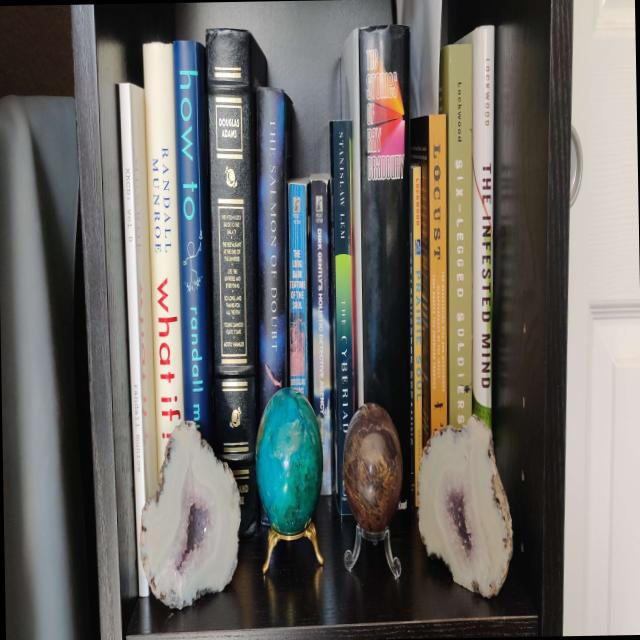book: (205, 28, 275, 534), (340, 23, 411, 511), (118, 82, 162, 598), (142, 41, 185, 469), (172, 40, 214, 444), (459, 24, 501, 428), (409, 113, 451, 445), (438, 44, 473, 425), (254, 86, 293, 415), (328, 120, 355, 515), (309, 173, 336, 496), (288, 178, 310, 398), (410, 165, 423, 505)
